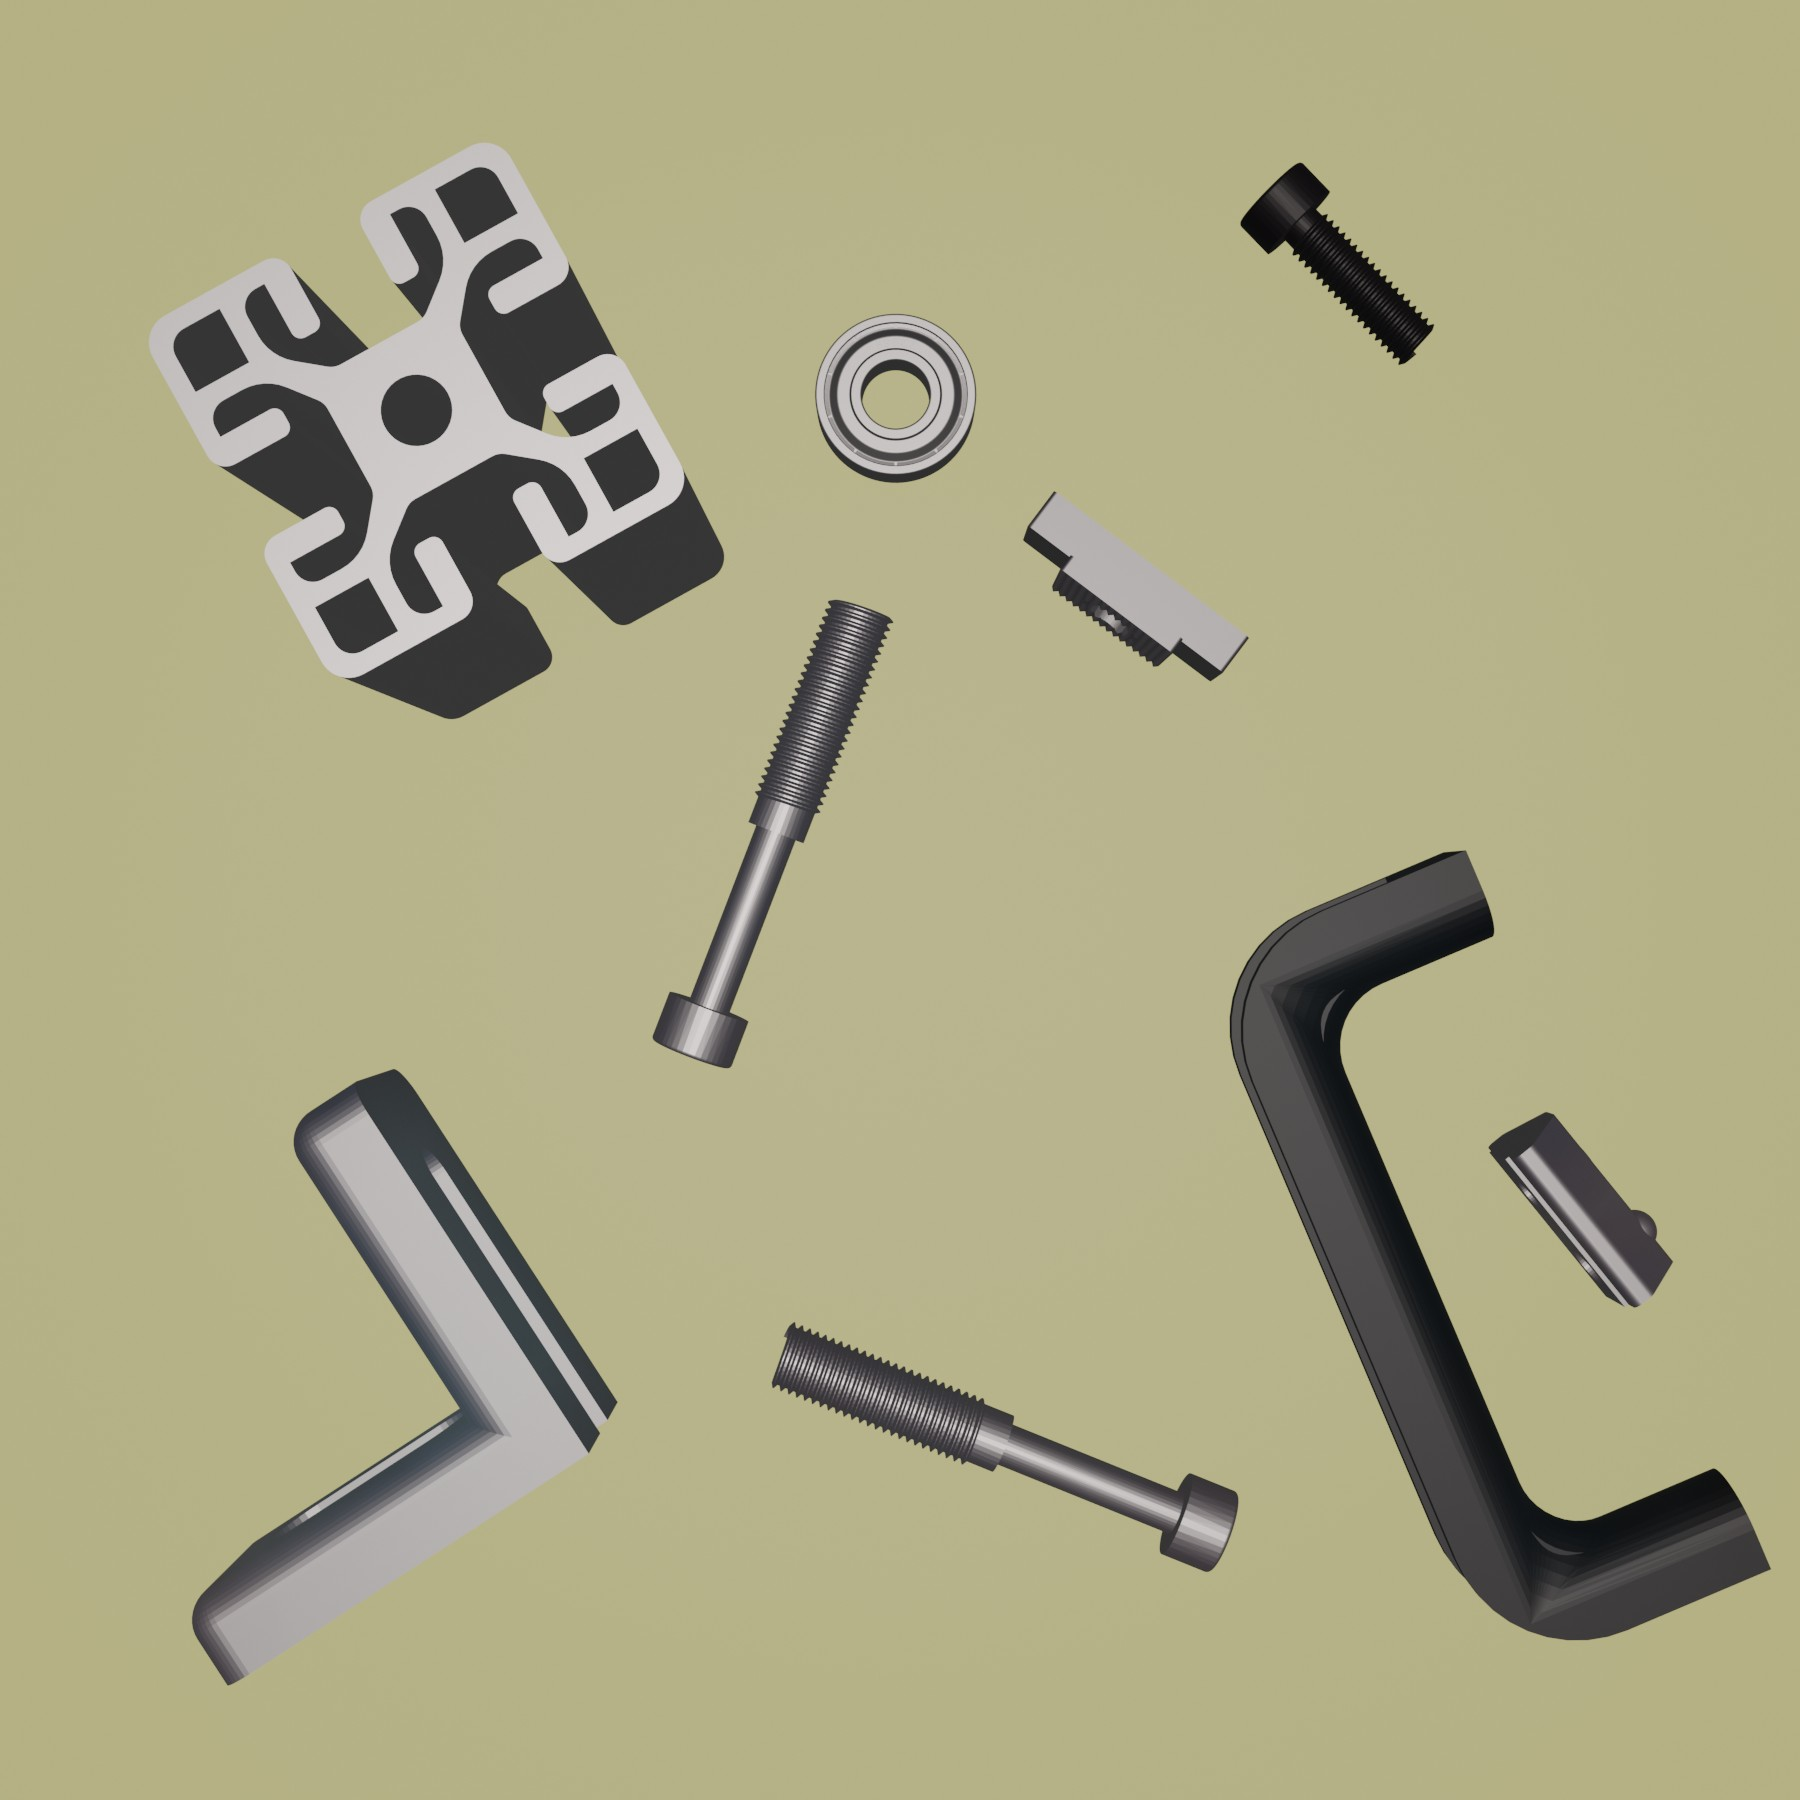Aluminium Extension: (147, 138, 725, 722)
Ball Bearing: (813, 308, 979, 488)
Multiwinkel: (190, 1068, 620, 1690)
Pull Handle: (1225, 847, 1774, 1647)
Shoulder Socket Head Cap Screw: (649, 592, 897, 1070), (766, 1324, 1240, 1573)
Socket Head Cap Screw: (1238, 158, 1439, 368)
T Nut Square: (1019, 488, 1254, 686)
T Spring Nut: (1484, 1108, 1675, 1310)
